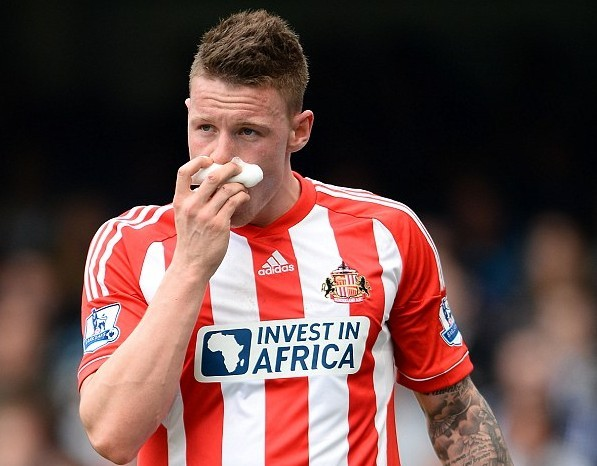face: (189, 72, 291, 226)
